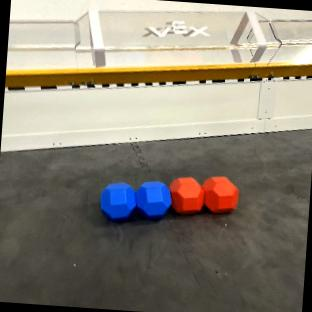V5_BLUE: (100, 181, 170, 220)
V5_RED: (169, 175, 238, 213)
